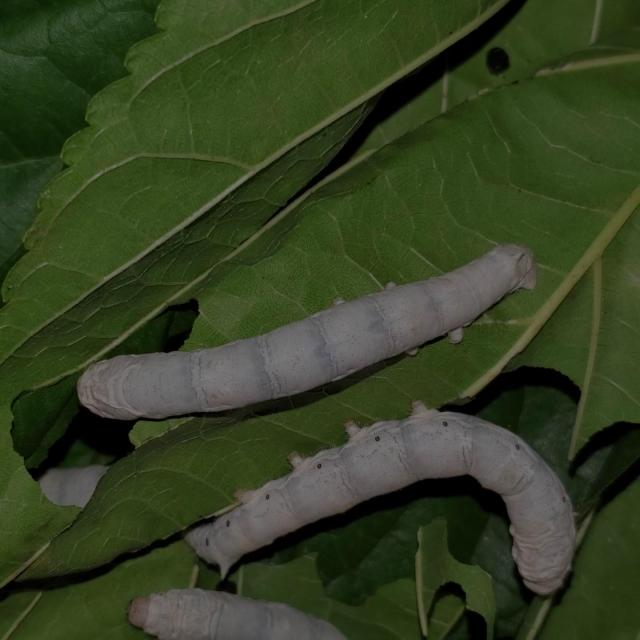Healthy: (63, 228, 561, 421)
